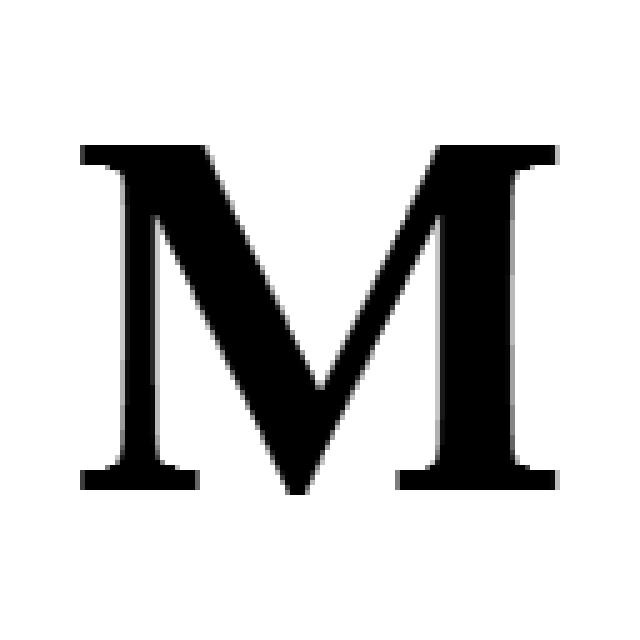M: (56, 123, 564, 504)
